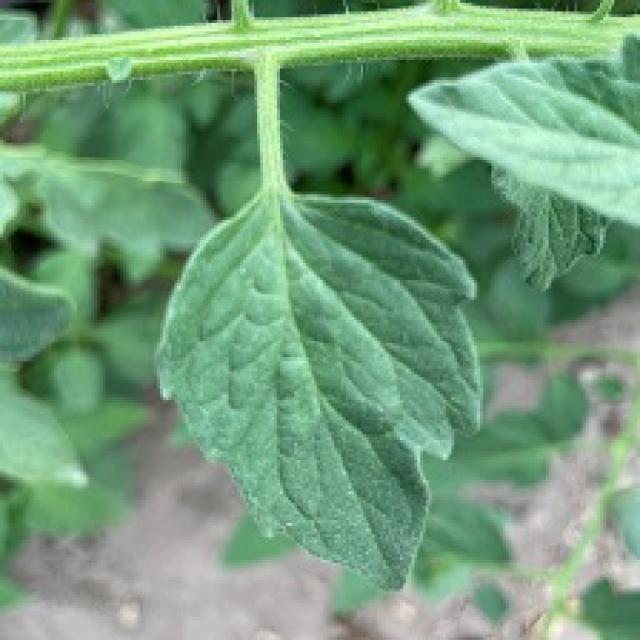Healthy: (103, 62, 571, 597)
